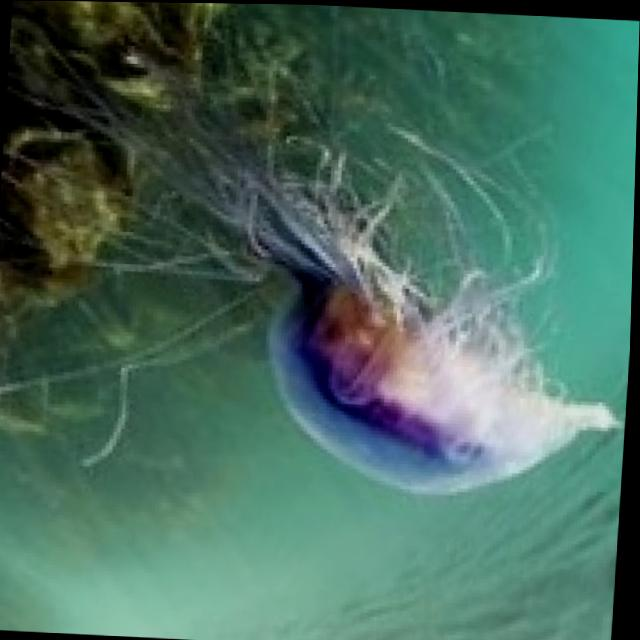Jellyfish: (0, 3, 640, 504)
